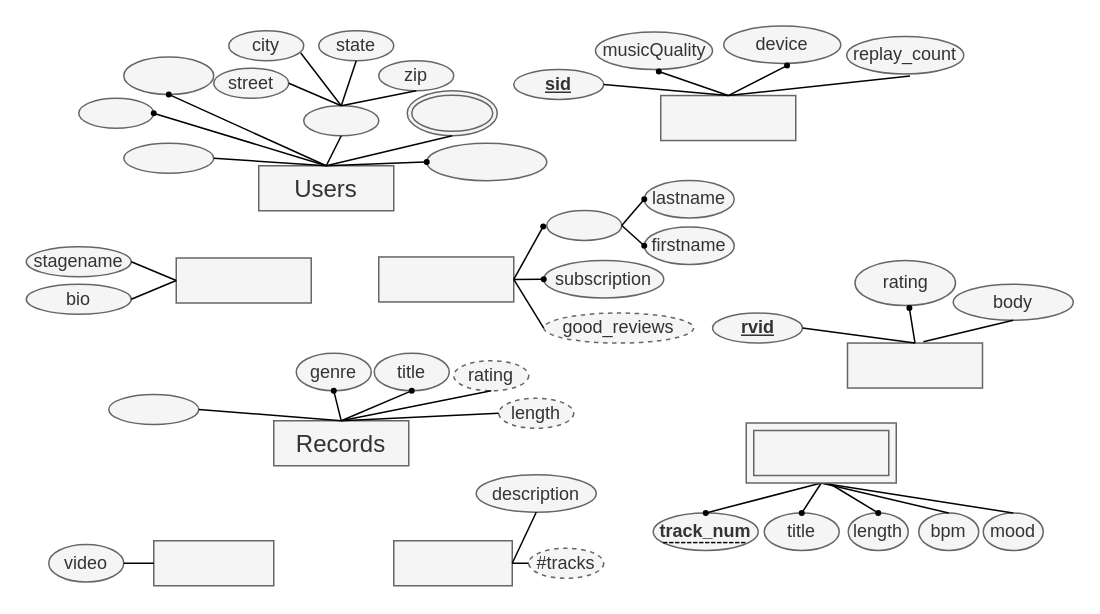
Some shapes in this 1100 by 614 pixel diagram are drawn without their labels. Each missing label, with the centre of its shape:
address: pixel 340 120
Albums: pixel 452 562
Artists: pixel 243 279
email: pixel 115 112
genres: pixel 451 112
joined_date: pixel 486 161
Listeners: pixel 445 278
name: pixel 583 224
nickname: pixel 168 75
Reviews: pixel 914 365
rid: pixel 153 408
Sessions: pixel 727 117
Singles: pixel 213 562
Songs: pixel 820 452
uid: pixel 168 157
